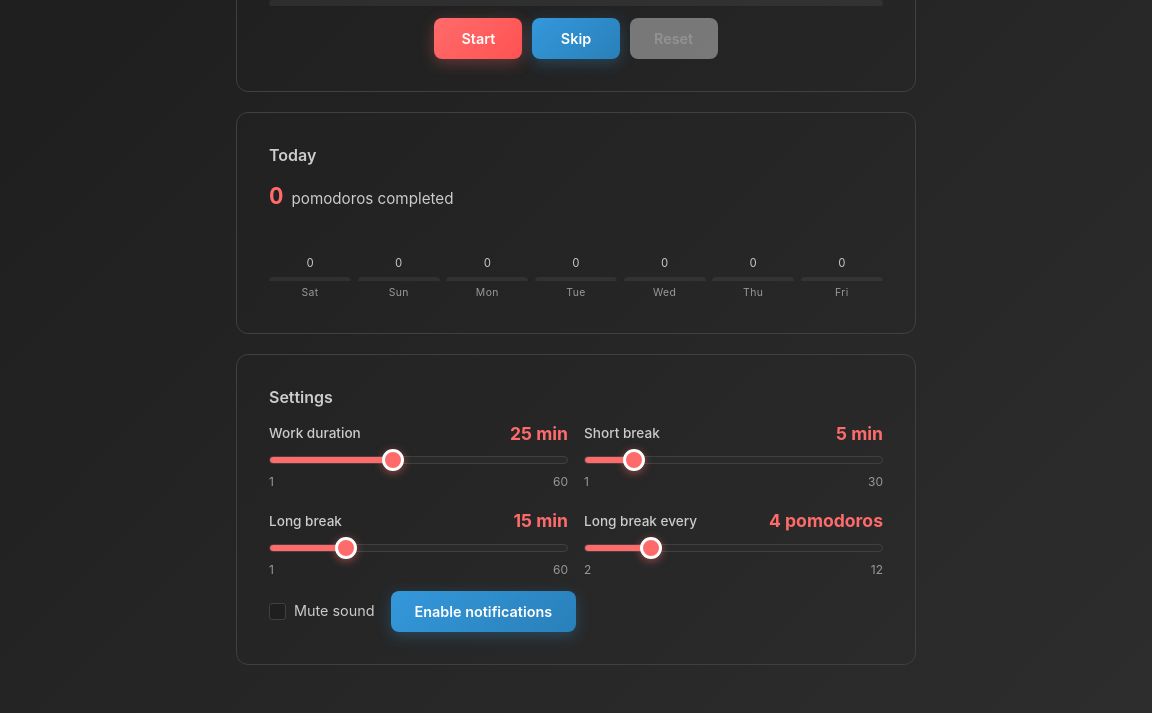
Test: <PomodoroTimer /> — notification toggle (4 states) › full enable-disable-enable cycle works without re-requesting
(page scrolled)
Note: Enable (State A → grant → State B).
Click the button with aria-label "enable desktop notifications".
click(483, 611)  # box top-left (391, 591), bottom-right (576, 632)
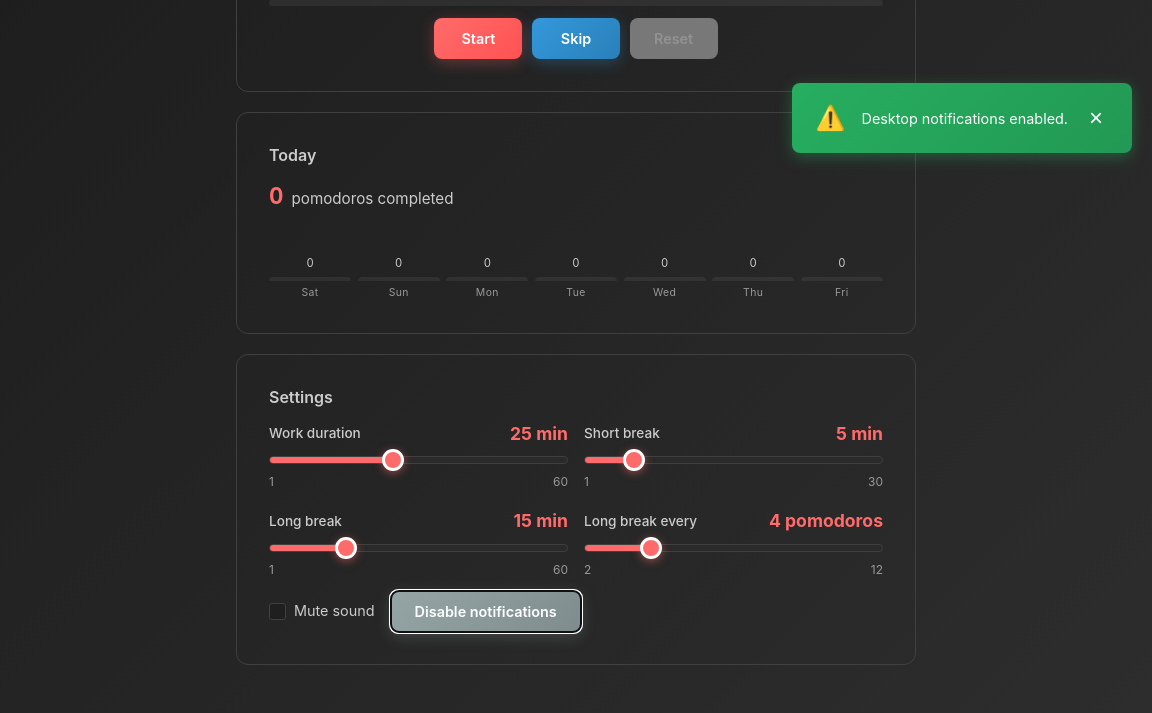
Expected: the button with aria-label "disable desktop notifications" is shown
Note: Disable (State B → State C, shown as "Enable").
Click the button with aria-label "disable desktop notifications".
click(486, 611)  # box top-left (391, 591), bottom-right (581, 632)
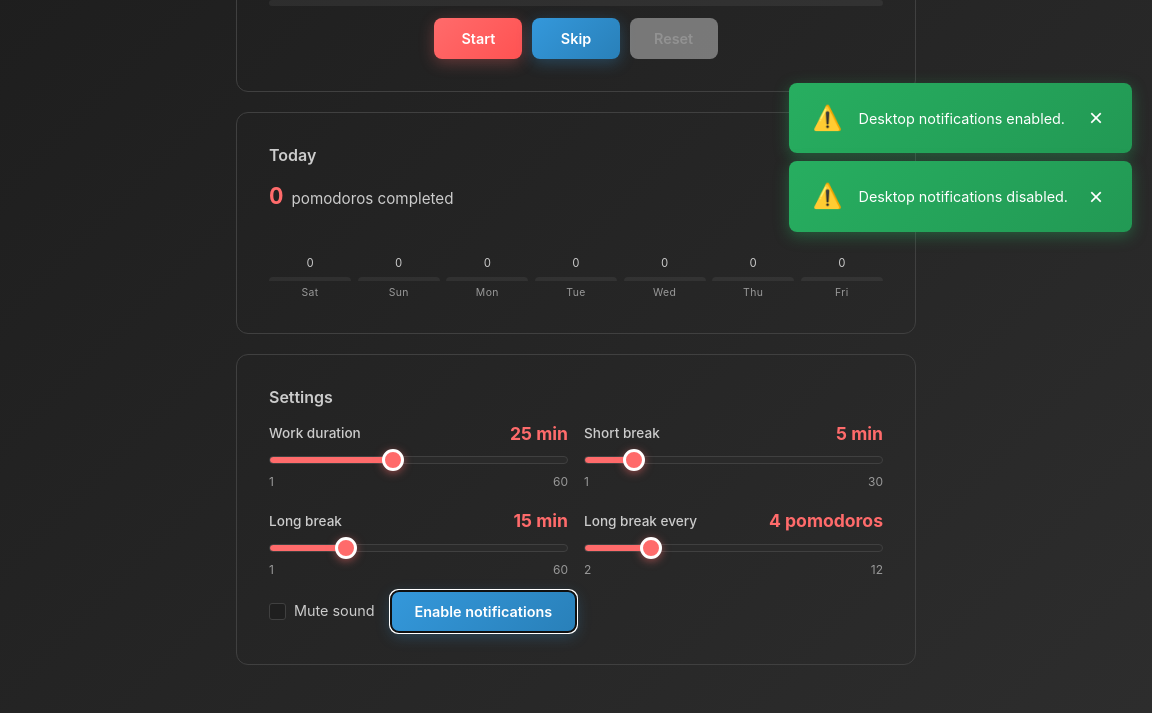
Expected: the button with aria-label "enable desktop notifications" is shown
Note: Re-enable (State C → State B).
Click the button with aria-label "enable desktop notifications".
click(483, 611)  # box top-left (391, 591), bottom-right (576, 632)
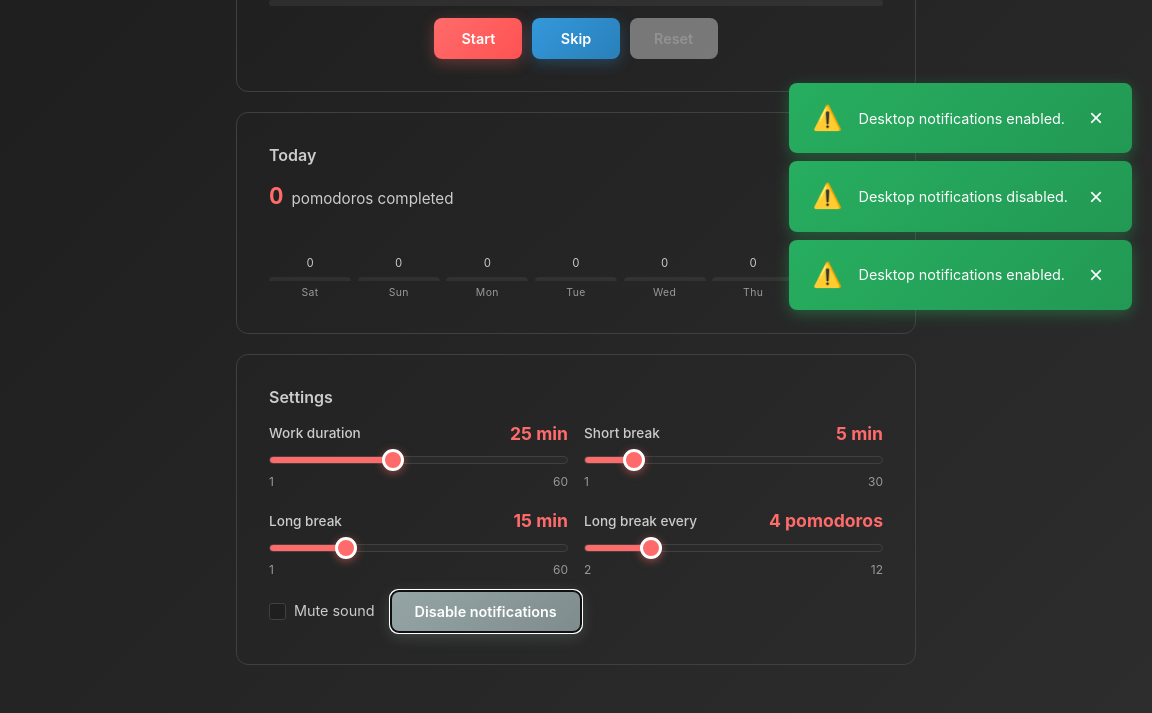
Expected: the button with aria-label "disable desktop notifications" is shown, top-left (391, 591), bottom-right (581, 632)
